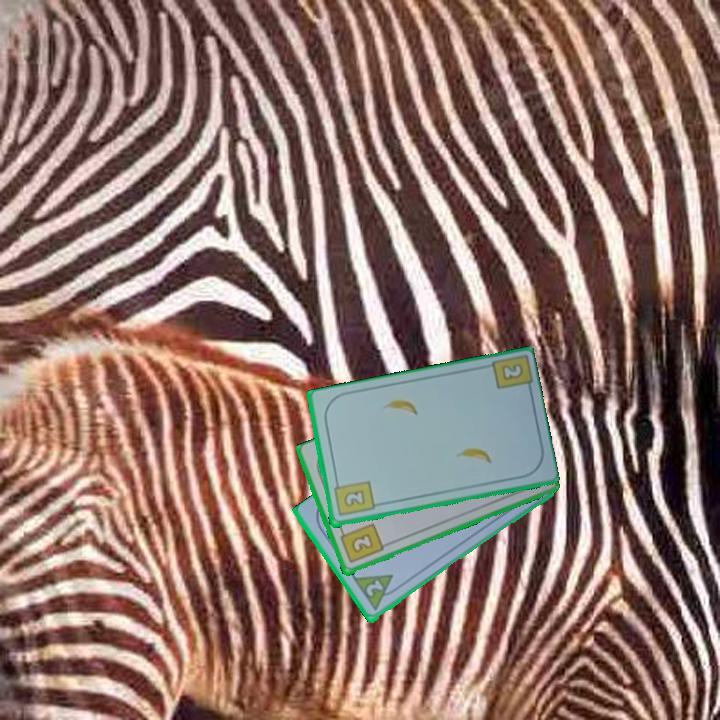2b: (336, 520, 386, 566), (330, 477, 377, 519), (498, 360, 526, 383)
2p: (362, 577, 386, 600)
